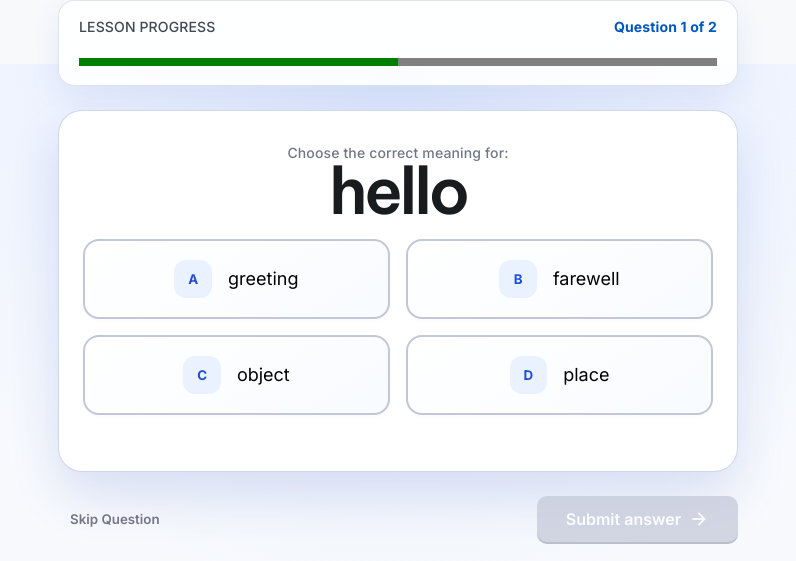
Test: TEST-017 multiple choice › advances through multiple questions and handles skip question
Step 1. Click the button "Skip Question" → (115, 519), box left=58, top=503, right=172, bottom=535
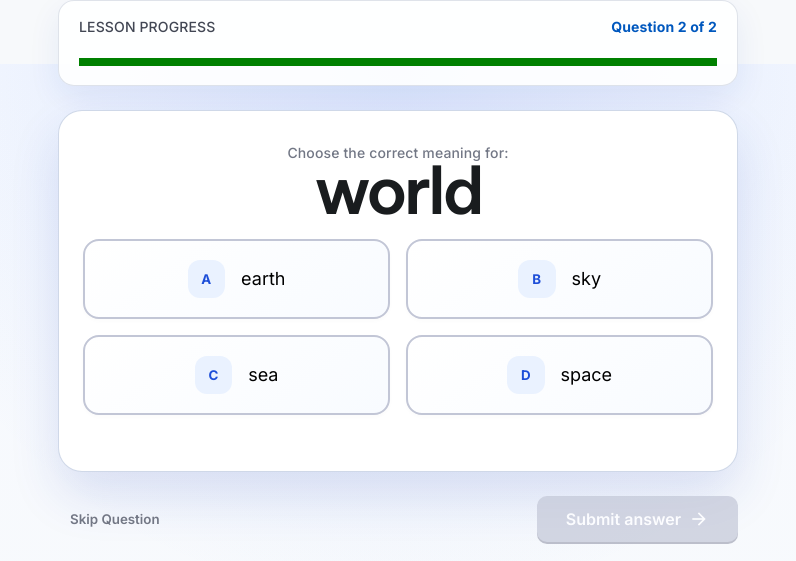
Check: the text "Question 2 of 2" is shown, box left=611, top=17, right=717, bottom=37
